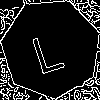L: (26, 23, 67, 75)
